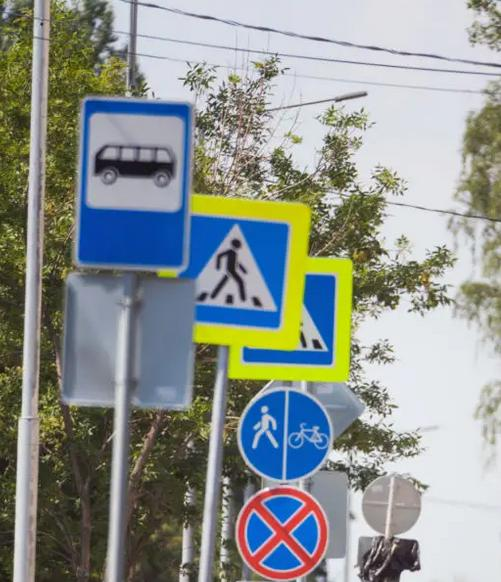obstructed_road_sign: (159, 196, 310, 354), (226, 256, 355, 385)
road_sign: (75, 97, 192, 269), (237, 387, 333, 484), (236, 486, 329, 580)
